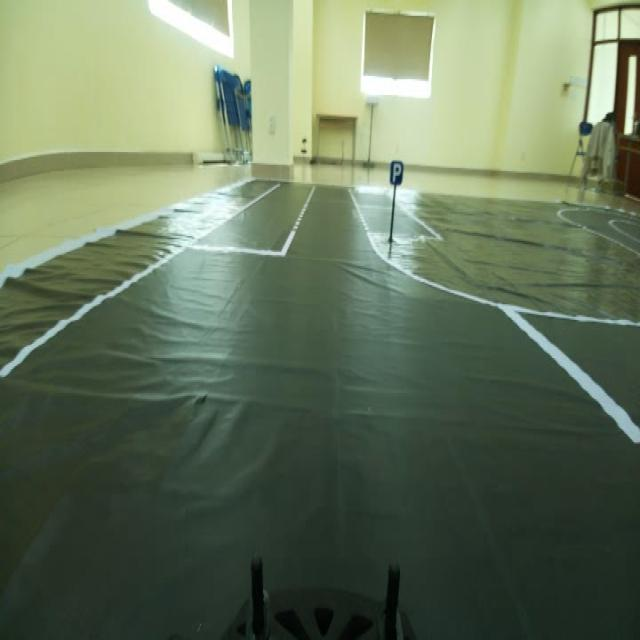parking: (387, 150, 409, 192)
